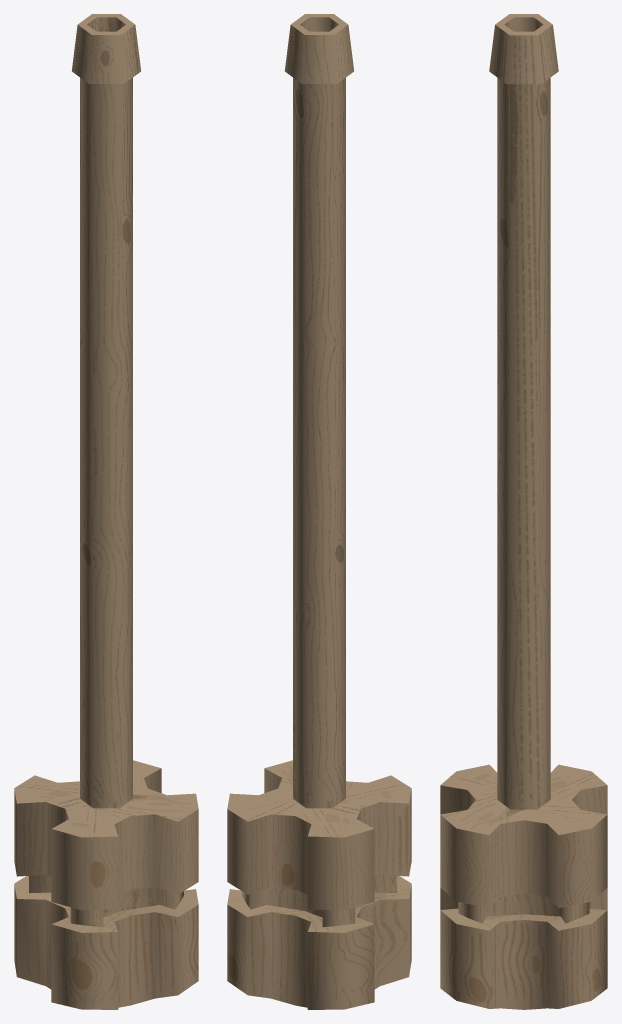
The model's file is molinillo_.fbx.
3 renders of one model, left to right at view 1: azimuth 30°, elevation 25°; view 2: azimuth 150°, elevation 25°; view 3: azimuth 270°, elevation 25°, orthographic.
Parts seen in each view (by area): view 1: Molinillo_chocolate_term; view 2: Molinillo_chocolate_term; view 3: Molinillo_chocolate_term.
Boxes of the visible parts, box(x1,y1,x2,y2) form: Molinillo_chocolate_term: box(14, 14, 198, 1009); Molinillo_chocolate_term: box(227, 14, 411, 1009); Molinillo_chocolate_term: box(440, 14, 607, 1009).
Size of the model in its own units: 6.29 by 40.53 by 6.29.
Materials: 1 (1 with a texture image).
